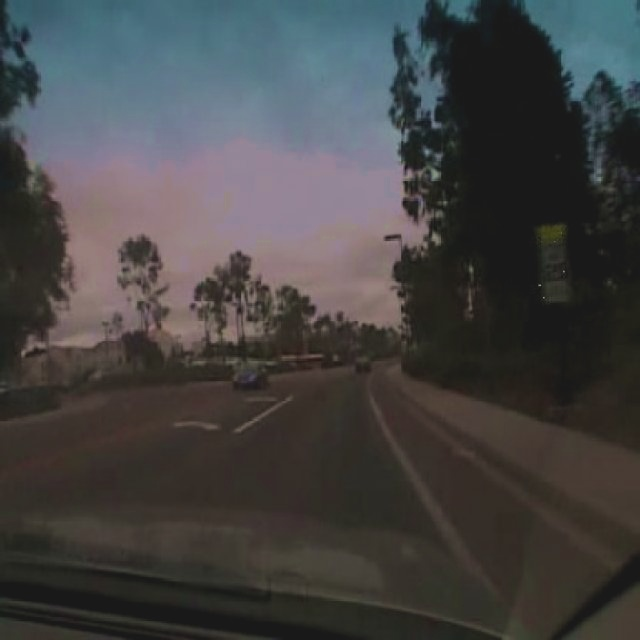schoolSpeedLimit25: (538, 222, 570, 302)
